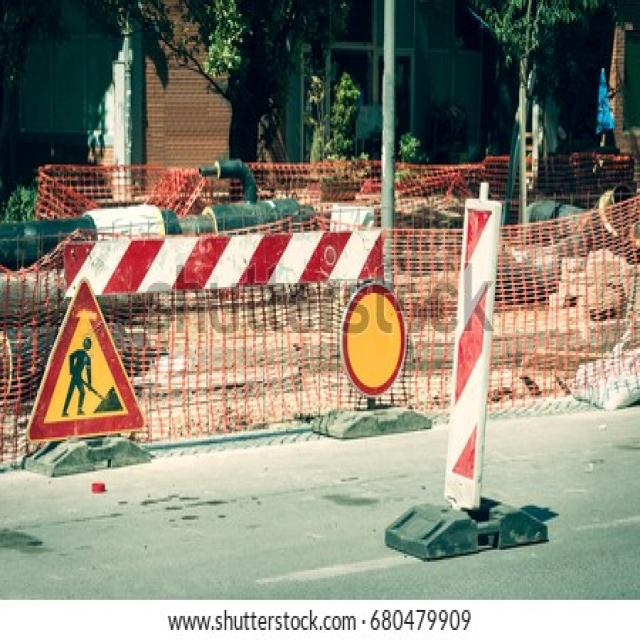cone: (0, 188, 639, 470)
